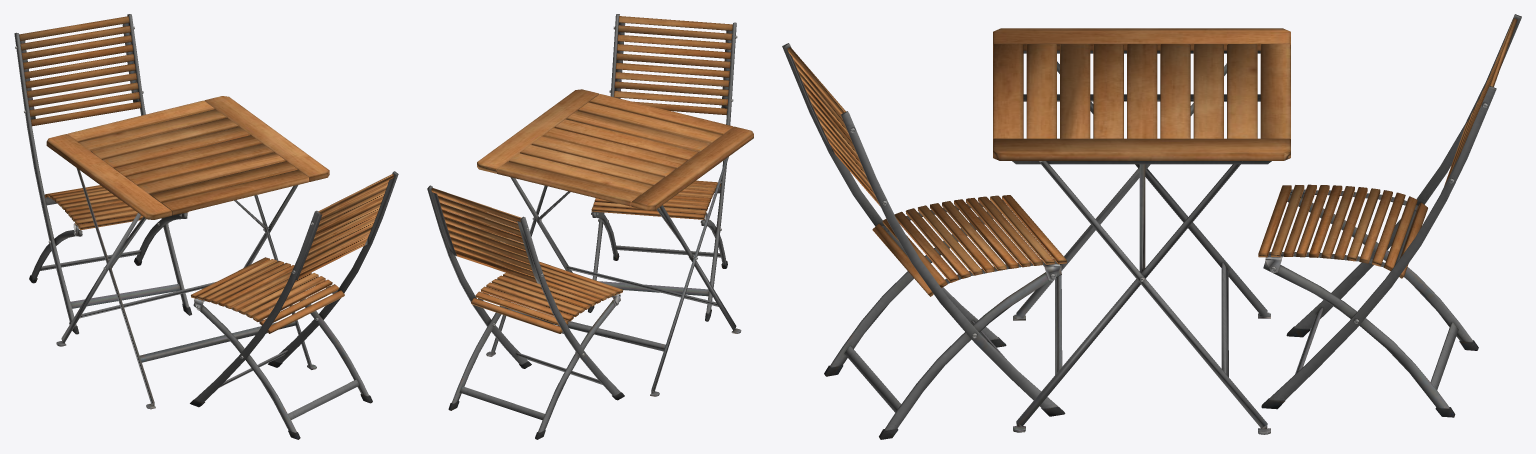
File: outdoor_table_chair_set_01.gltf
3 views of the same model, side by side, from view 1: azimuth 30°, elevation 25°; view 2: azimuth 150°, elevation 25°; view 3: azimuth 270°, elevation 25° (orthographic). The views are drawn at different scales.
Visible parts, largest first — view 1: outdoor_table_chair_set_01_table, outdoor_table_chair_set_01_chair_02, outdoor_table_chair_set_01_chair_01; view 2: outdoor_table_chair_set_01_table, outdoor_table_chair_set_01_chair_02, outdoor_table_chair_set_01_chair_01; view 3: outdoor_table_chair_set_01_table, outdoor_table_chair_set_01_chair_01, outdoor_table_chair_set_01_chair_02.
Part boxes in pixels (<box>): outdoor_table_chair_set_01_table: <box>46,96,329,409</box>; outdoor_table_chair_set_01_chair_02: <box>14,14,191,334</box>; outdoor_table_chair_set_01_chair_01: <box>190,171,398,439</box>; outdoor_table_chair_set_01_table: <box>477,89,753,396</box>; outdoor_table_chair_set_01_chair_02: <box>427,185,624,439</box>; outdoor_table_chair_set_01_chair_01: <box>588,14,737,321</box>; outdoor_table_chair_set_01_table: <box>993,28,1290,434</box>; outdoor_table_chair_set_01_chair_01: <box>782,43,1066,439</box>; outdoor_table_chair_set_01_chair_02: <box>1258,14,1521,417</box>.
Size of the model in its own units: 0.7419 by 0.8583 by 1.72.
2 materials, 2 textured.
